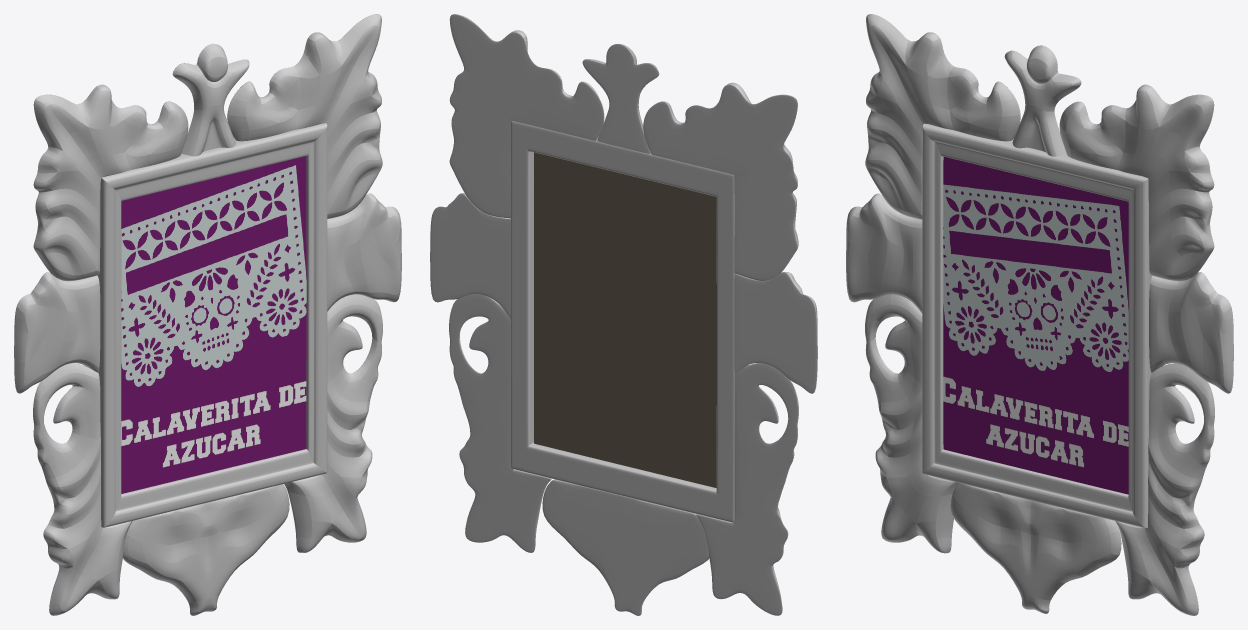
File: Calaverita.fbx
The picture shows the model from 3 angles, left to right: view 1: azimuth 30°, elevation 25°; view 2: azimuth 150°, elevation 25°; view 3: azimuth 330°, elevation 25°; orthographic projection.
Visible parts, largest first — view 1: 10305_picture_frame_V2_max2011_it2.001, Plano.001; view 2: 10305_picture_frame_V2_max2011_it2.001, Plano.002; view 3: 10305_picture_frame_V2_max2011_it2.001, Plano.001.
Boxes of the visible parts, x1=… form: 10305_picture_frame_V2_max2011_it2.001: x1=14, y1=14, x2=401, y2=615; Plano.001: x1=121, y1=156, x2=306, y2=493; 10305_picture_frame_V2_max2011_it2.001: x1=430, y1=14, x2=817, y2=615; Plano.002: x1=534, y1=152, x2=716, y2=487; 10305_picture_frame_V2_max2011_it2.001: x1=846, y1=14, x2=1233, y2=615; Plano.001: x1=943, y1=156, x2=1128, y2=494.
Bounding box in the file's own units: 175 × 245 × 6.63.
